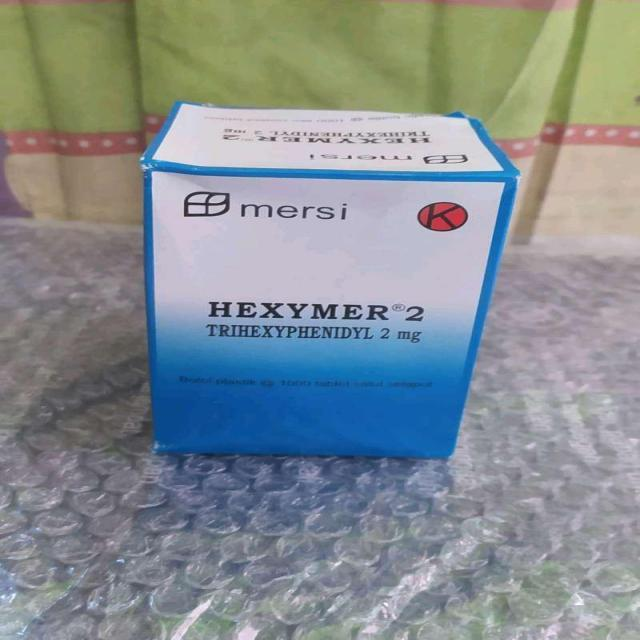drug-name: (208, 298, 425, 322)
